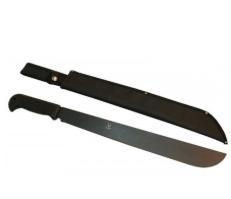MACHETTE: (0, 59, 231, 199)
